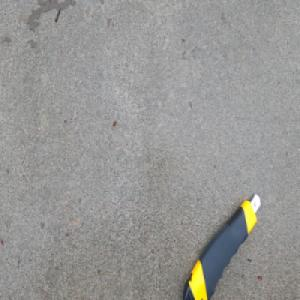Cutter: (180, 190, 261, 300)
